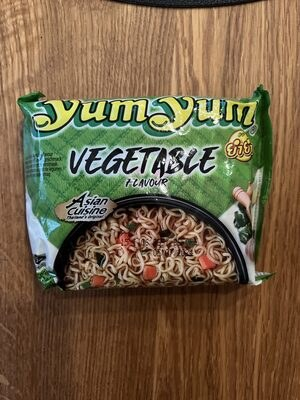Vegetable Flavour: (15, 20, 285, 380)
